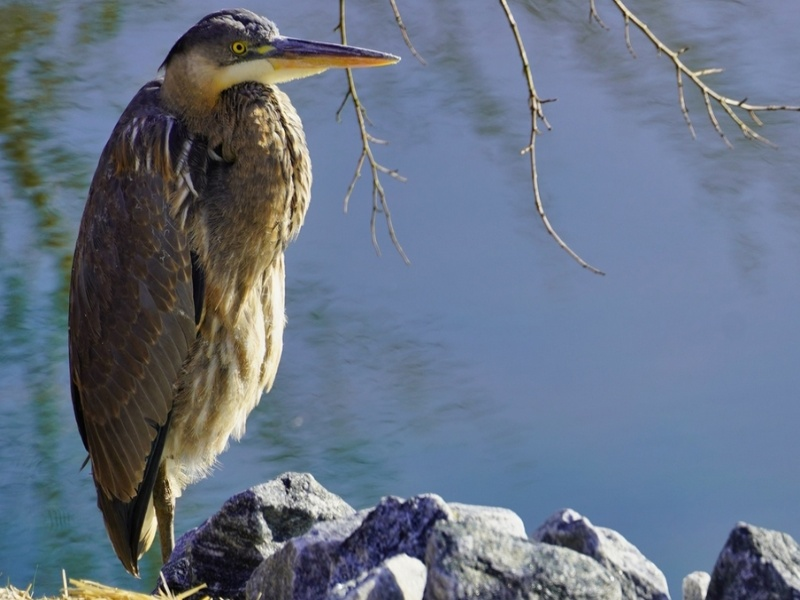heron: (65, 8, 402, 578)
